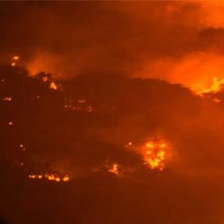fire: (140, 138, 168, 170), (28, 173, 72, 185), (203, 74, 224, 95)
